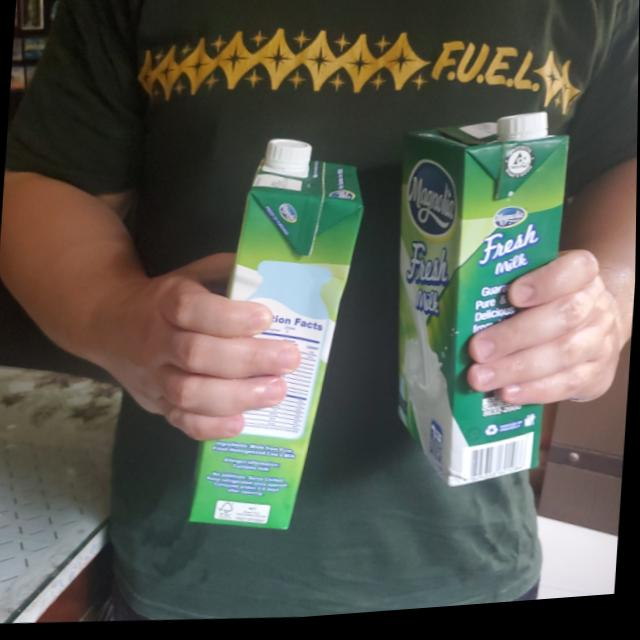milk: (186, 135, 367, 550), (388, 109, 576, 501)
